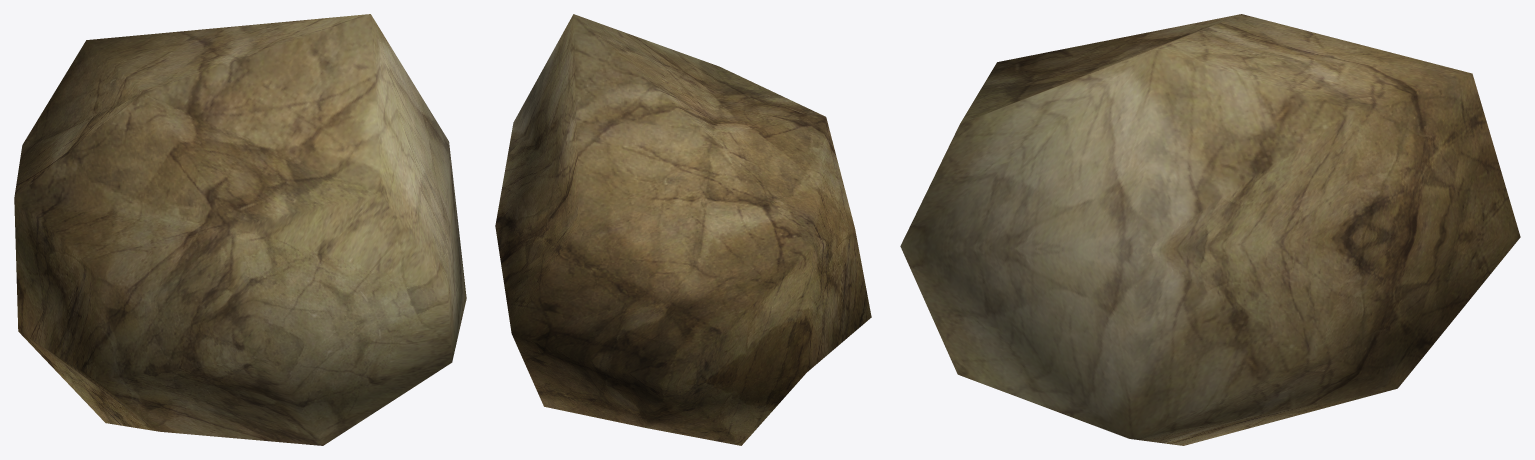
The model's file is Rock00.FBX.
3 views of the same model, side by side, from view 1: azimuth 30°, elevation 25°; view 2: azimuth 150°, elevation 25°; view 3: azimuth 270°, elevation 25° (orthographic). The views are drawn at different scales.
Visible parts, largest first — view 1: Rock00; view 2: Rock00; view 3: Rock00.
Part boxes in pixels (bbox=[...]): Rock00: bbox=[14, 14, 466, 445]; Rock00: bbox=[495, 14, 871, 445]; Rock00: bbox=[900, 14, 1520, 445].
Bounding box in the file's own units: 475 × 446 × 567.
